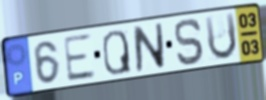6: (32, 39, 61, 86)
E: (61, 32, 98, 84)
N: (132, 21, 167, 74)
Q: (101, 29, 133, 77)
S: (173, 16, 207, 67)
U: (202, 10, 239, 63)
